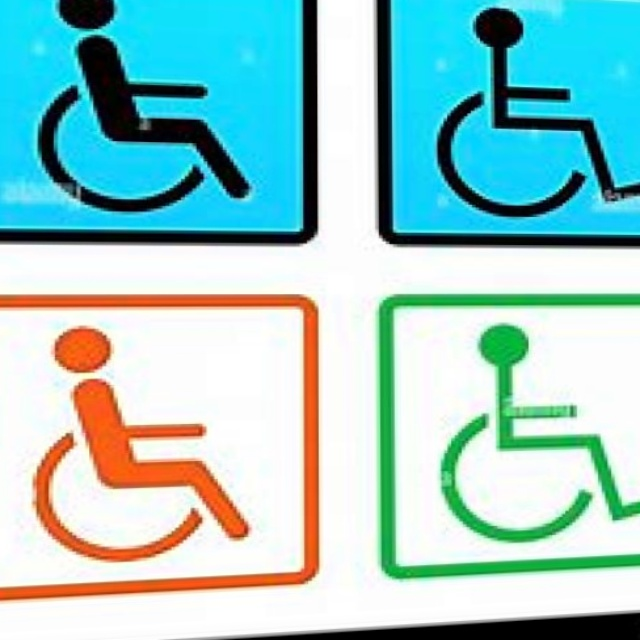ISA: (31, 328, 253, 570), (40, 0, 257, 213), (438, 322, 640, 549), (435, 4, 640, 223)
